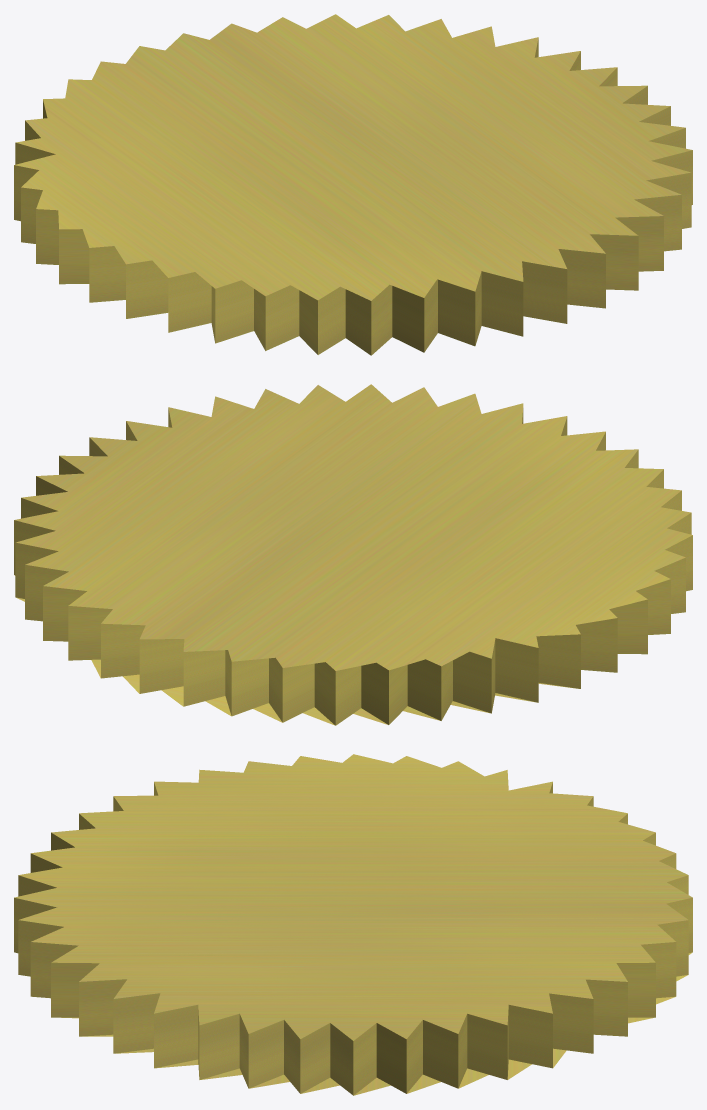
Rendered from ClockStraightFacet040.fbx.
3 views of the same model, one above another, from view 1: azimuth 30°, elevation 25°; view 2: azimuth 150°, elevation 25°; view 3: azimuth 270°, elevation 25° (orthographic).
Visible parts, largest first — view 1: ClockStraightFacet040; view 2: ClockStraightFacet040; view 3: ClockStraightFacet040.
Boxes of the visible parts, <box> form: ClockStraightFacet040: <box>14,14,692,355</box>; ClockStraightFacet040: <box>14,384,692,725</box>; ClockStraightFacet040: <box>14,754,692,1095</box>.
Size of the model in its own units: 221 by 19.69 by 221.
